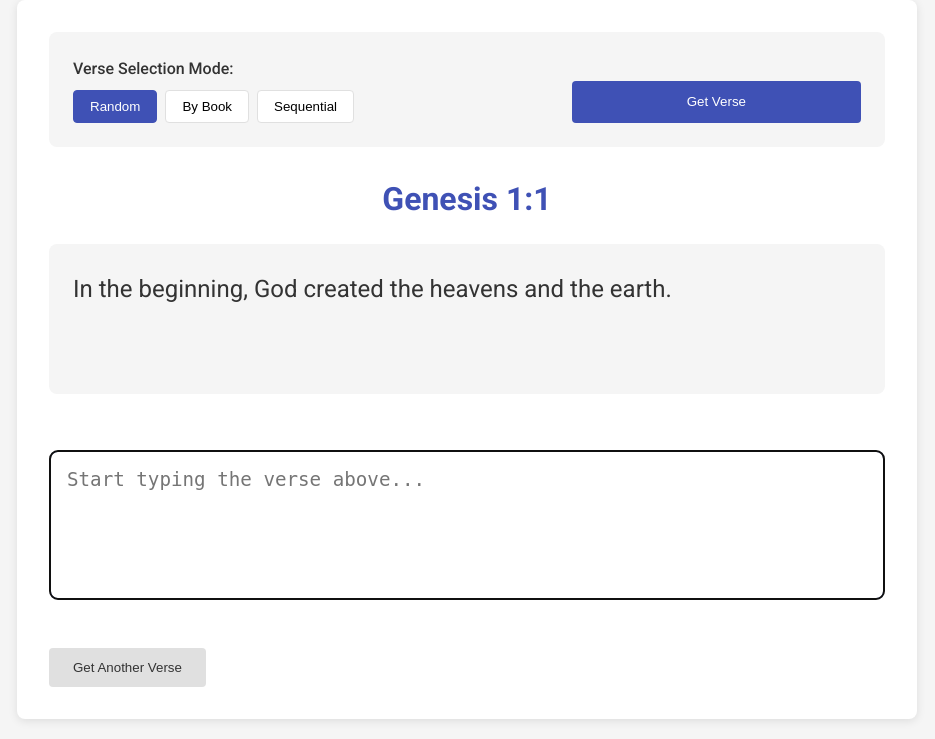
Test: TypingTest › should switch to "Sequential" mode and fetch the next verse
What coordinates should you click on to do the following:
click the button "Sequential"
I would click on:
 (306, 106)
Its box is [257,90,354,123].
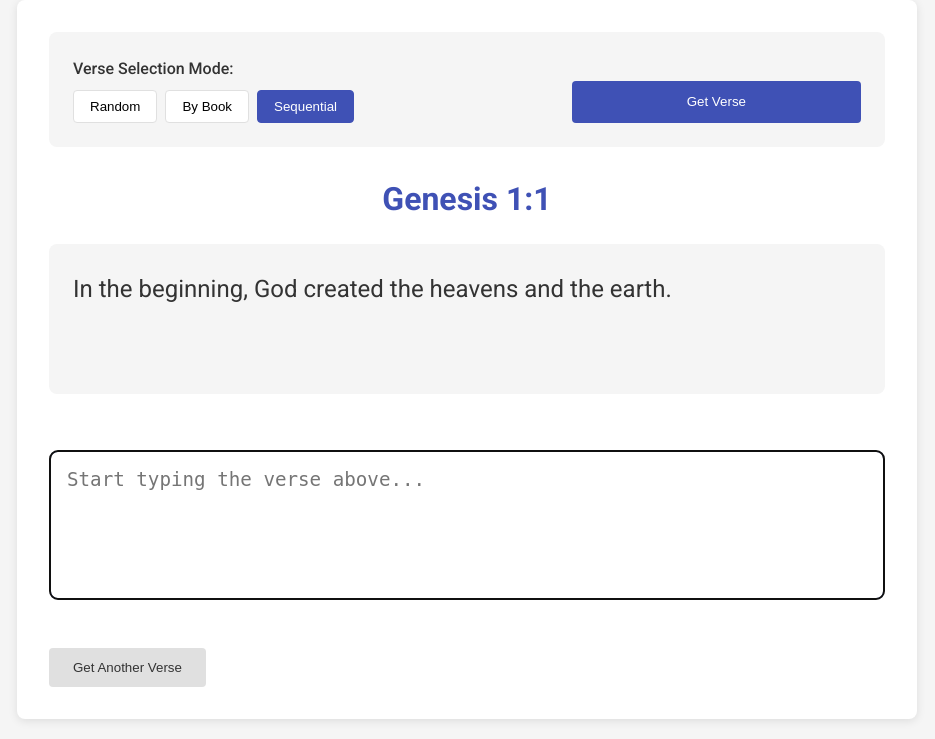
What coordinates should you click on to do the following:
click the button "Get Verse"
I would click on:
 (716, 102)
Its box is [572,81,861,123].
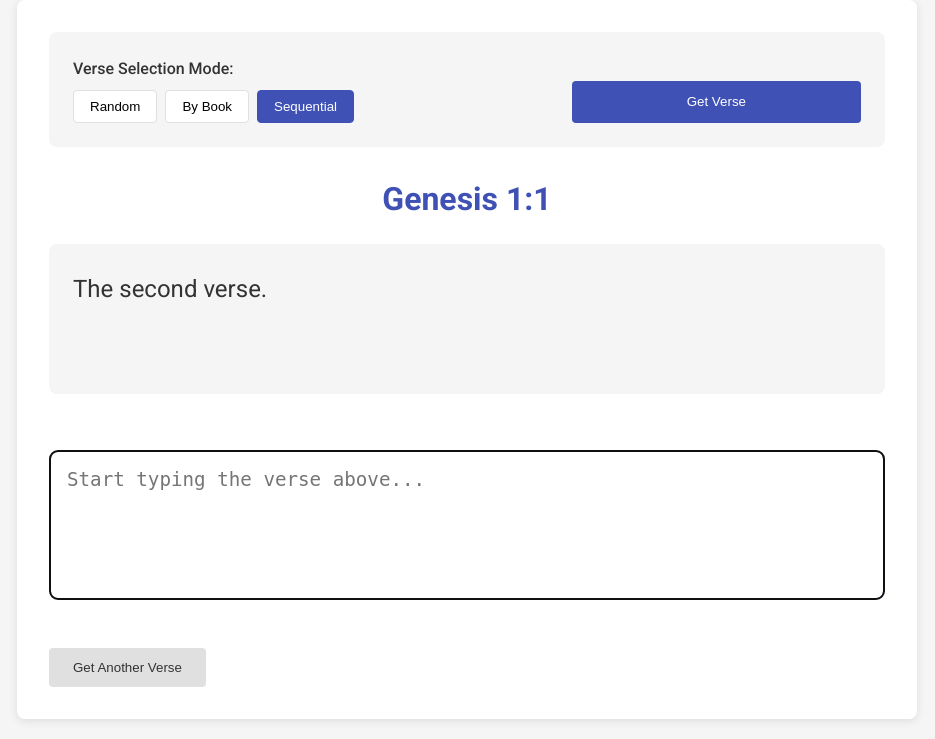
Result: the element with test id "verse-display" reads "The second verse." at [49,244,885,394]
